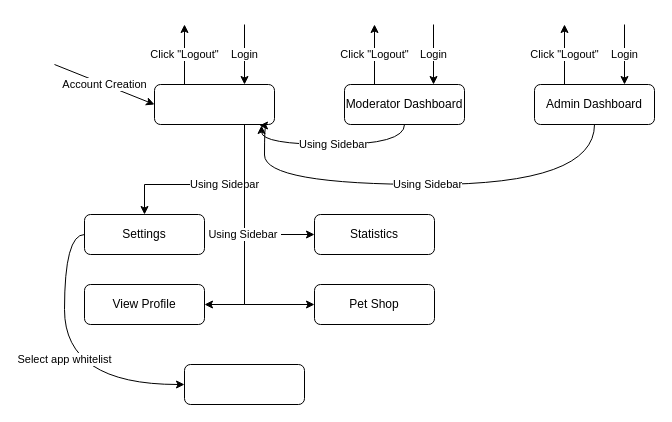
The diagram is 672 pixels wide and 422 high, and some of its shapes have lost their labels. Here are the shapes that lost their labels. From the top down, the centre of each, then its label:
(214,104): User Dashboard
(244,384): App Whitelist
